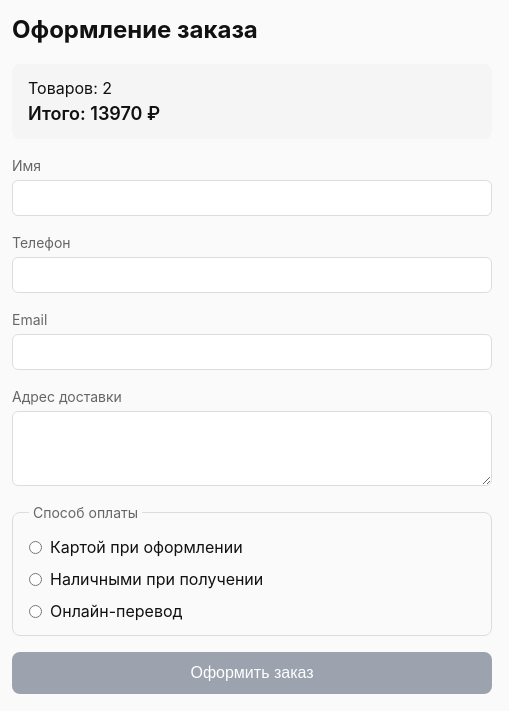
Test: OrderForm › все три метода оплаты активируют кнопку при валидных полях
The image size is (509, 711).
Type "Иван" into the field labelled "Имя" at (252, 198), box [12,180,492,216]
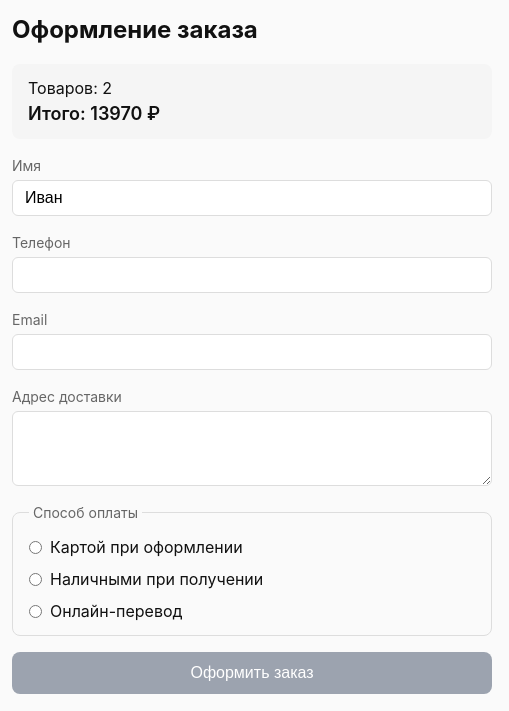
Type "+79001234567" into the field labelled "Телефон" at (252, 275), box [12,257,492,293]
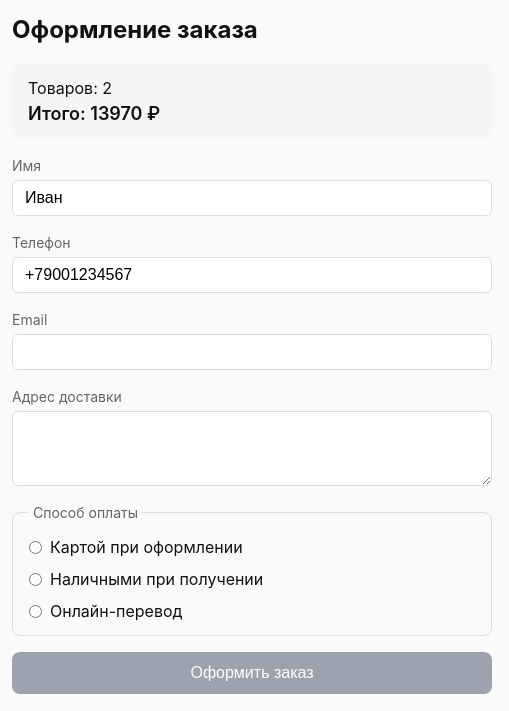
Type "ivan@example.com" into the field labelled "Email" at (252, 352), box [12,334,492,370]
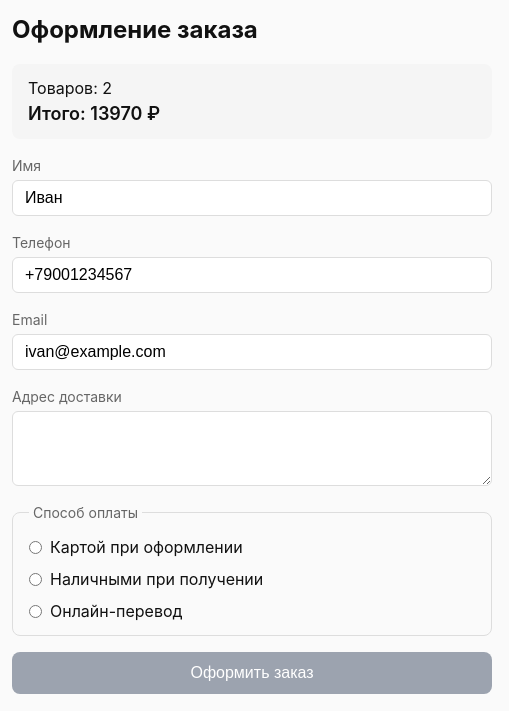
Type "ул. Пушкина, д. 10" into the text box labelled "Адрес доставки" at (252, 448), box [12,411,492,486]
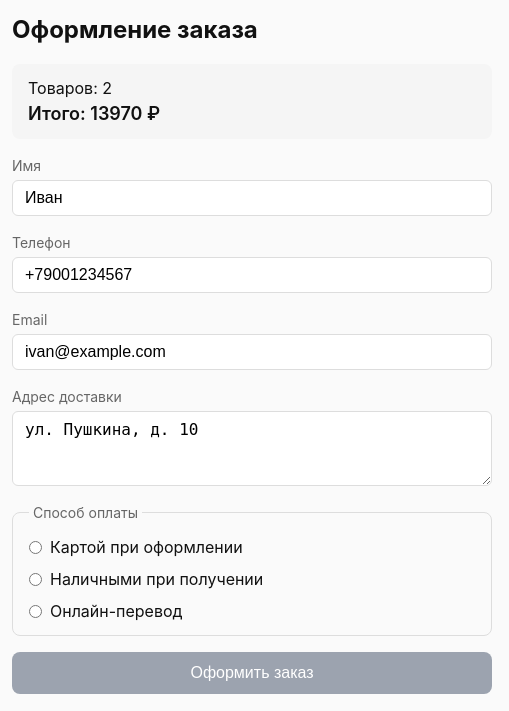
Click the radio button labelled "Картой при оформлении" at (36, 547), box [29,540,42,554]
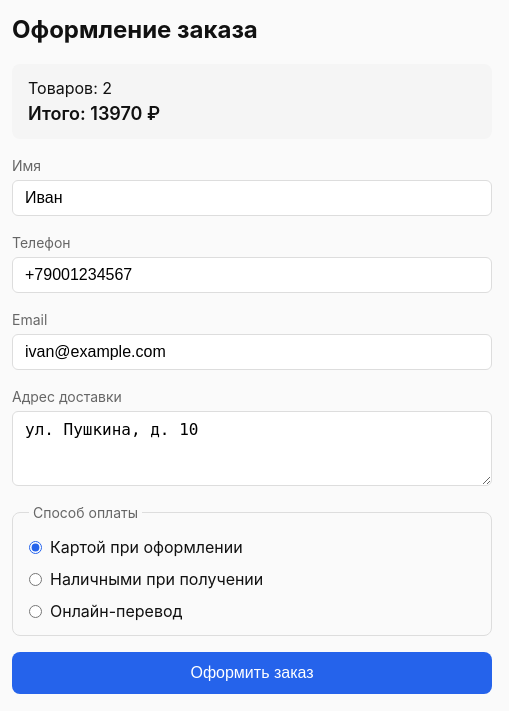
Check: the button "Оформить заказ" is enabled, box [12,652,492,694]
